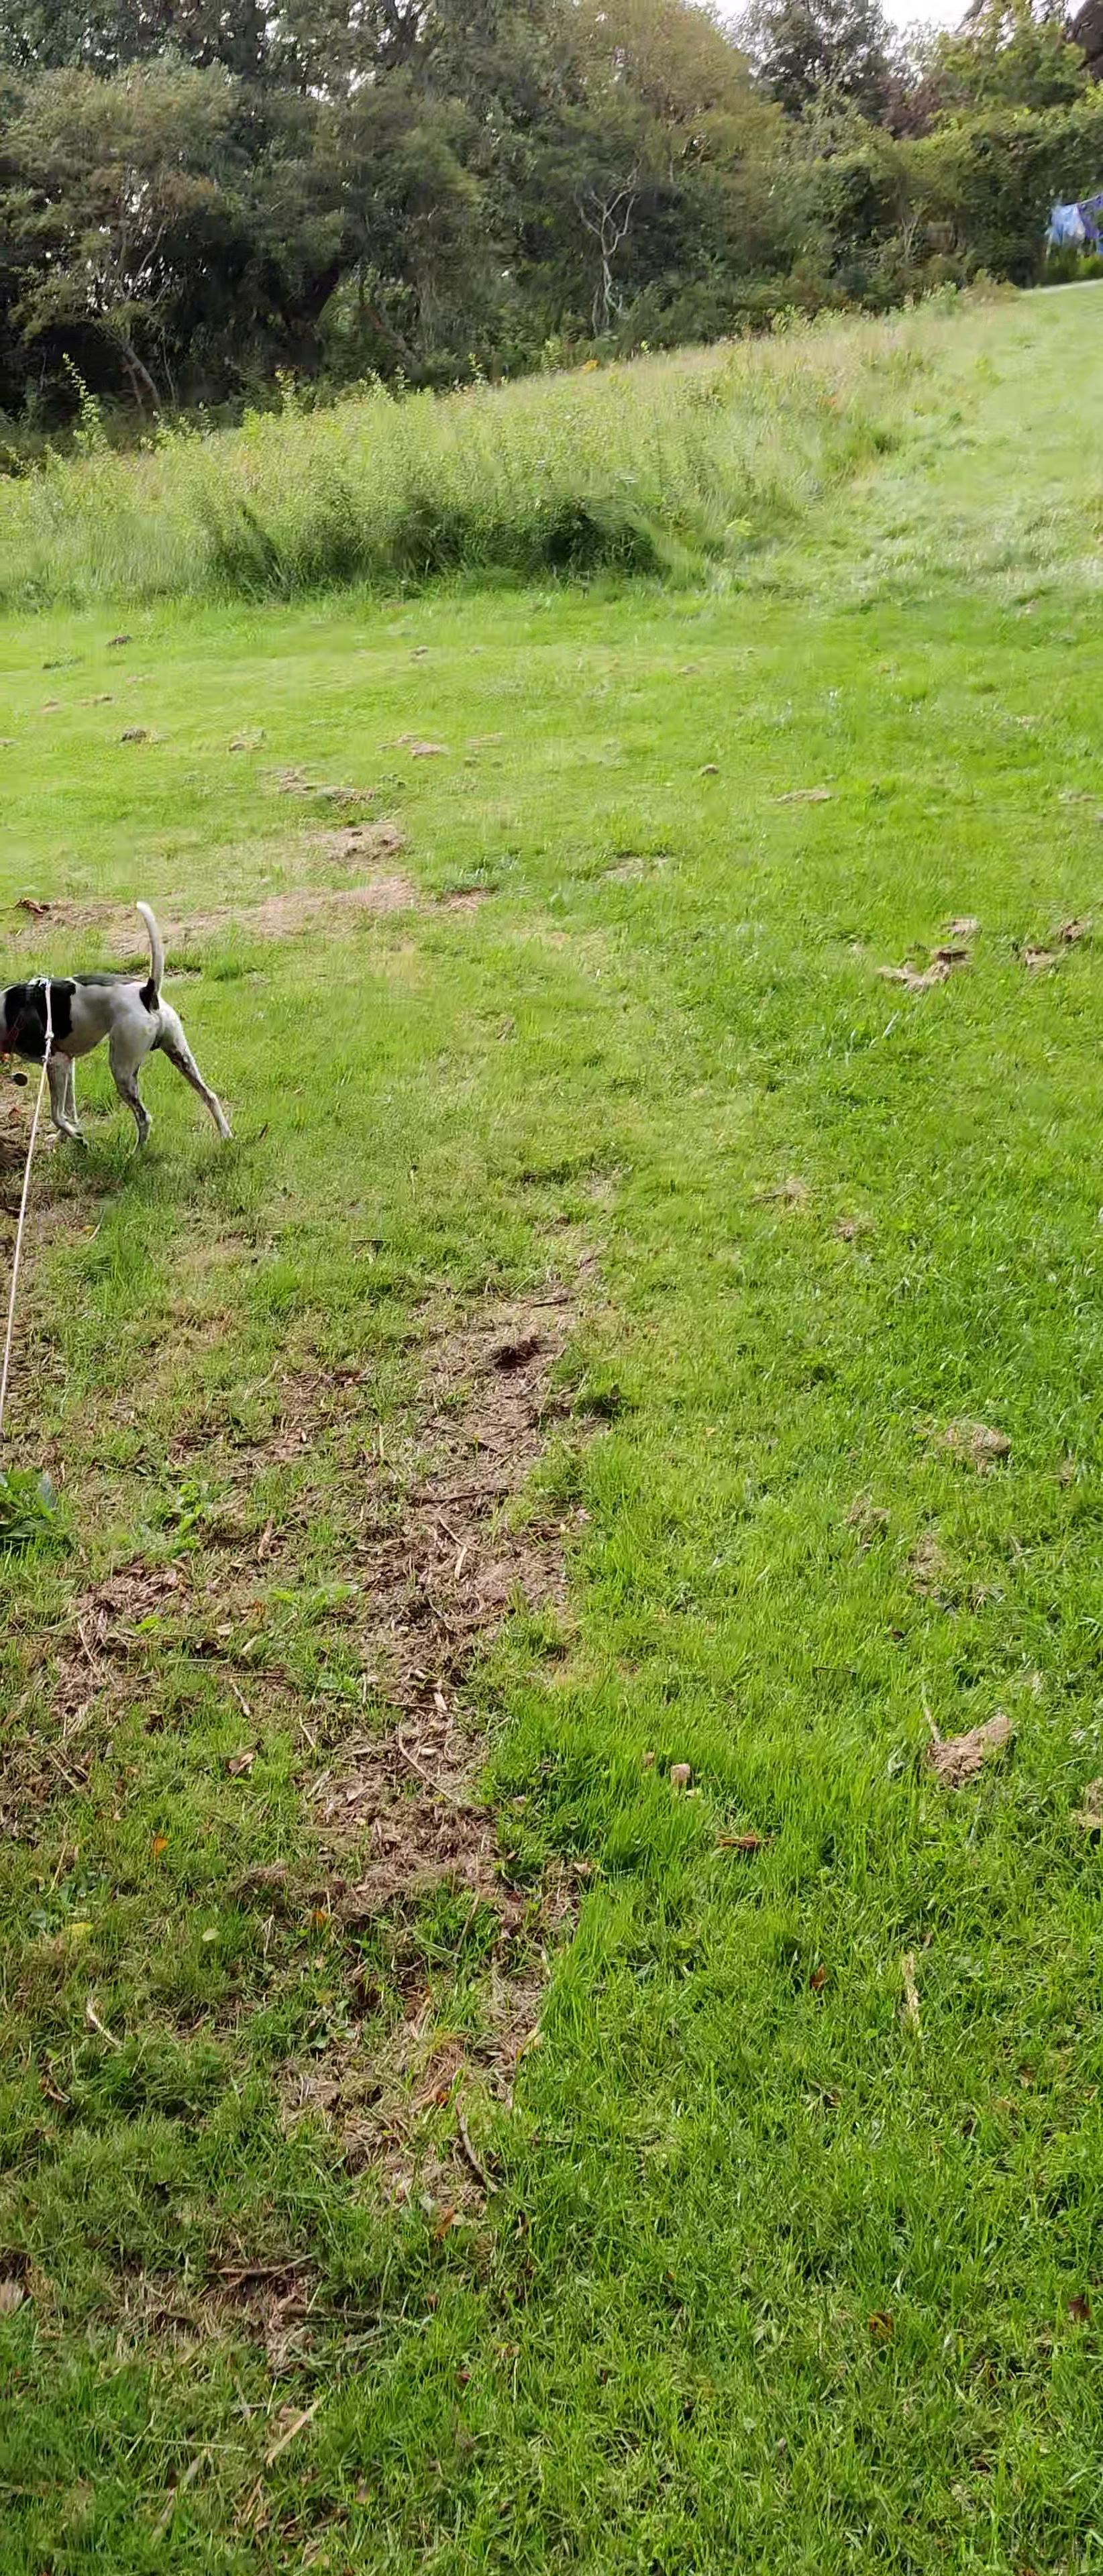Dog: (0, 892, 248, 1158)
